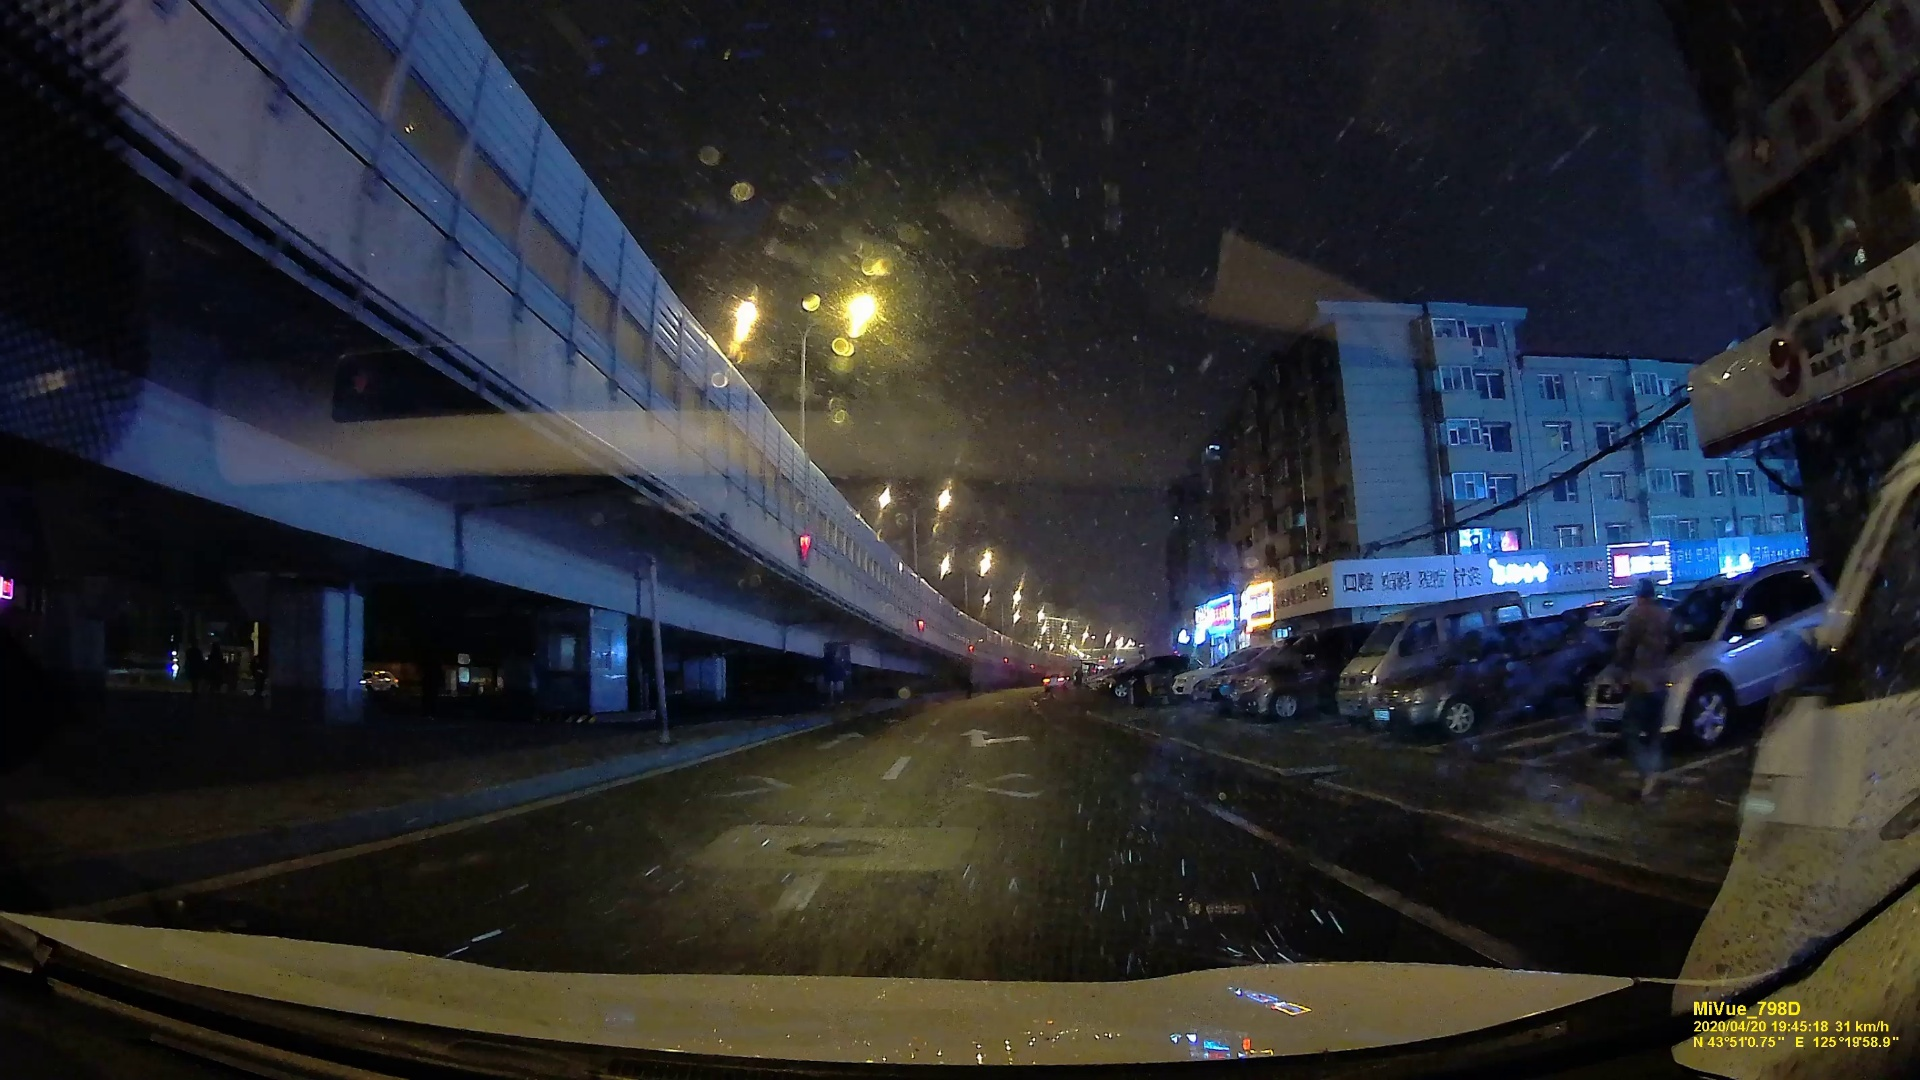minibus: (1339, 607, 1440, 718)
person: (1613, 571, 1672, 759), (1072, 664, 1084, 690)
vehicle: (1592, 566, 1832, 756)
